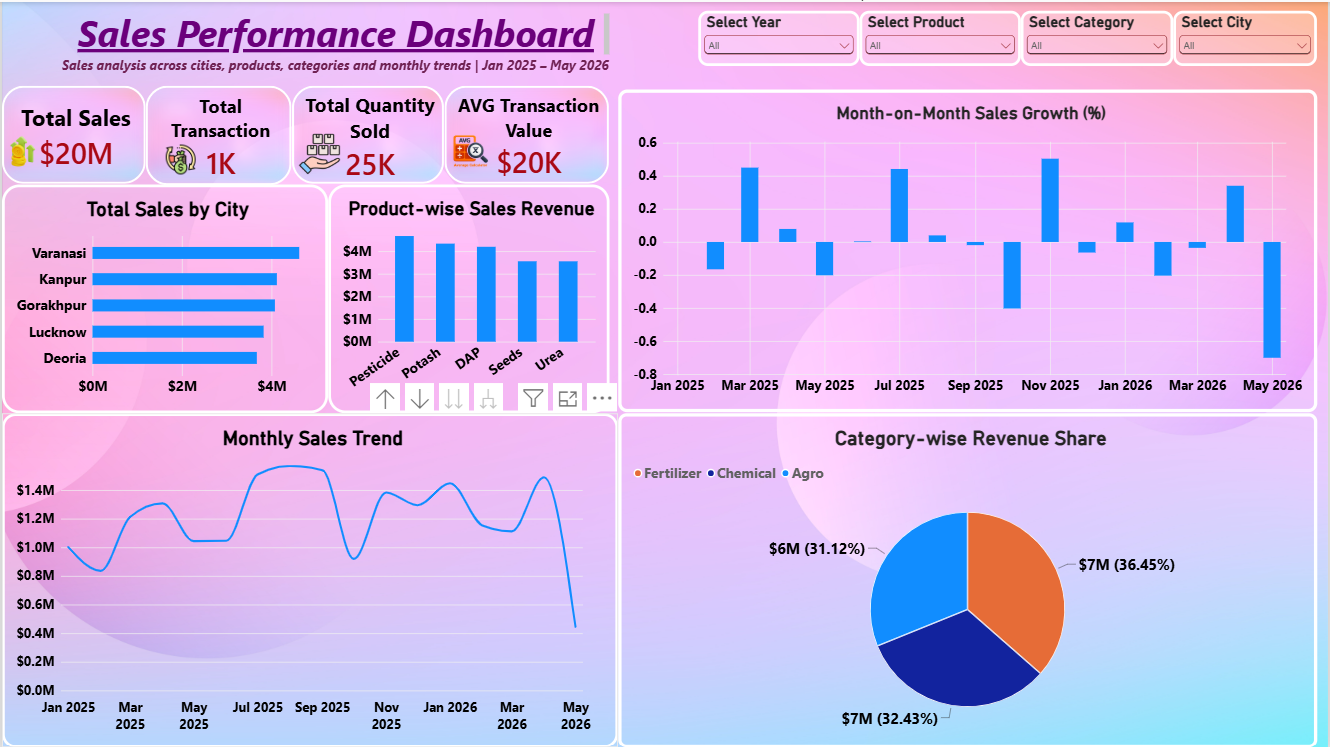

The dashboard page shown, as its layout file describes it:
{"tool":"powerbi","page":{"name":"Page 1","canvas":[1920,1080],"ordinal":0},"visuals":[{"type":"cardVisual","fields":{"Data":["Sales.Total Sales"]},"box":[0,121.2,208.1,143],"z":0},{"type":"cardVisual","fields":{"Data":["Sales.Total Transactions"]},"box":[208.1,121.2,211.7,144.8],"z":1000},{"type":"cardVisual","fields":{"Data":["Sales.Total Quantity Sold"]},"box":[419.8,121.2,220.8,143],"z":2000},{"type":"cardVisual","fields":{"Data":["Sales.Average Transaction Value"]},"box":[640.6,121.2,238.9,143],"z":3000},{"type":"clusteredBarChart","fields":{"Category":["Sales.City"],"Y":["Sales.Total Sales"]},"box":[0,264.2,472.3,331.2],"z":4000},{"type":"clusteredColumnChart","title":"Product-wise Sales Revenue","fields":{"Category":["Sales.Product"],"Y":["Sales.Total Sales"]},"box":[472.3,264.2,407.2,331.2],"z":4001},{"type":"lineChart","title":"Monthly Sales Trend","fields":{"Y":["Sales.Total Sales"],"Category":["Sales.Month Start.Variation.Date Hierarchy.Year","Sales.Month Start.Variation.Date Hierarchy.Quarter","Sales.Month Start.Variation.Date Hierarchy.Month","Sales.Month Start.Variation.Date Hierarchy.Day"]},"box":[0,595.4,892.2,485],"z":4002},{"type":"slicer","fields":{"Values":["Sales.City"]},"box":[1695.7,12.7,208.1,79.6],"z":4003},{"type":"slicer","fields":{"Values":["Sales.Category"]},"box":[1474.9,12.7,220.8,79.6],"z":4004},{"type":"slicer","fields":{"Values":["Sales.Product"]},"box":[1241.4,12.7,233.4,79.6],"z":4005},{"type":"donutChart","title":"Category-wise Revenue Share","fields":{"Category":["Sales.Category"],"Y":["Sales.Total Sales"]},"box":[892.2,595.4,1011.6,485],"z":4006},{"type":"clusteredColumnChart","title":"Month-on-Month Sales Growth (%)","fields":{"Y":["Sales.MoM Sales Growth %"],"Category":["Sales.Month Start"]},"box":[892.2,126.7,1011.6,466.9],"z":4007},{"type":"textbox","box":[99.5,266,300.4,133.9],"z":4008},{"type":"textbox","box":[146.6,12.7,300.4,79.6],"z":4009},{"type":"textbox","box":[29,12.7,850.5,65.1],"z":4010},{"type":"textbox","box":[0,77.8,892.2,43.4],"z":4011},{"type":"slicer","fields":{"Values":["Sales.Month Start.Variation.Date Hierarchy.Year"]},"box":[1008,12.7,233.4,79.6],"z":4012},{"type":"image","box":[7.2,188.2,45.2,56.1],"z":4013},{"type":"image","box":[237.1,193.6,43.4,68.8],"z":4014},{"type":"image","box":[414.4,190,90.5,59.7],"z":4015},{"type":"image","box":[642.4,164.7,70.6,101.3],"z":4016}]}

Visuals, with their boxes in screenshot pixels (x1, y1, x2, y2), scaled from the page's 1920x1080 canvas onto the 1330x747 screenshot:
cardVisual - Sales.Total Sales: box(0, 84, 144, 183)
cardVisual - Sales.Total Transactions: box(144, 84, 291, 184)
cardVisual - Sales.Total Quantity Sold: box(291, 84, 444, 183)
cardVisual - Sales.Average Transaction Value: box(444, 84, 609, 183)
clusteredBarChart - Sales.City x Sales.Total Sales: box(0, 183, 327, 412)
"Product-wise Sales Revenue" clusteredColumnChart: box(327, 183, 609, 412)
"Monthly Sales Trend" lineChart: box(0, 412, 618, 746)
slicer - Sales.City: box(1175, 9, 1319, 64)
slicer - Sales.Category: box(1022, 9, 1175, 64)
slicer - Sales.Product: box(860, 9, 1022, 64)
"Category-wise Revenue Share" donutChart: box(618, 412, 1319, 746)
"Month-on-Month Sales Growth (%)" clusteredColumnChart: box(618, 88, 1319, 411)
textbox: box(69, 184, 277, 277)
textbox: box(102, 9, 310, 64)
textbox: box(20, 9, 609, 54)
textbox: box(0, 54, 618, 84)
slicer - Sales.Month Start.Variation.Date Hierarchy.Year: box(698, 9, 860, 64)
image: box(5, 130, 36, 169)
image: box(164, 134, 194, 181)
image: box(287, 131, 350, 173)
image: box(445, 114, 494, 184)
